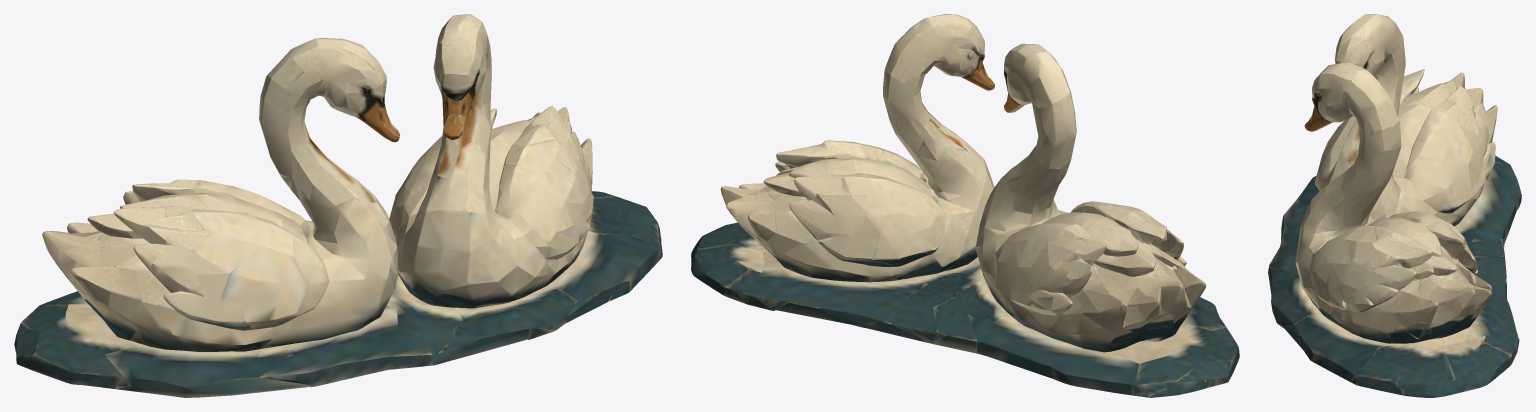
File: lake-swan.glb
3 renders of one model, left to right at view 1: azimuth 30°, elevation 25°; view 2: azimuth 150°, elevation 25°; view 3: azimuth 270°, elevation 25°, orthographic. The views are drawn at different scales.
Visible parts, largest first — view 1: output_unwrapped; view 2: output_unwrapped; view 3: output_unwrapped.
Boxes of the visible parts, x1,y1,x2,y2 form: output_unwrapped: (14, 14, 662, 397); output_unwrapped: (691, 14, 1239, 397); output_unwrapped: (1268, 14, 1521, 397).
Size of the model in its own units: 1.9 by 0.8442 by 0.8164.
1 material, 1 textured.
